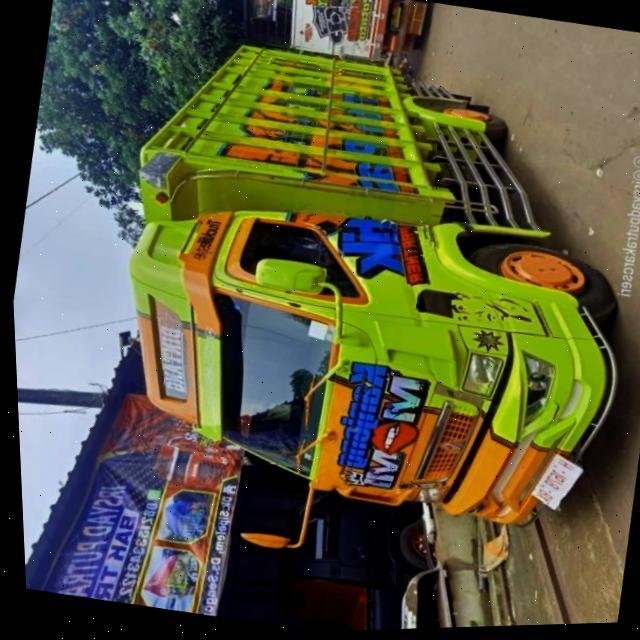truck: (62, 16, 640, 612), (274, 0, 442, 80)
